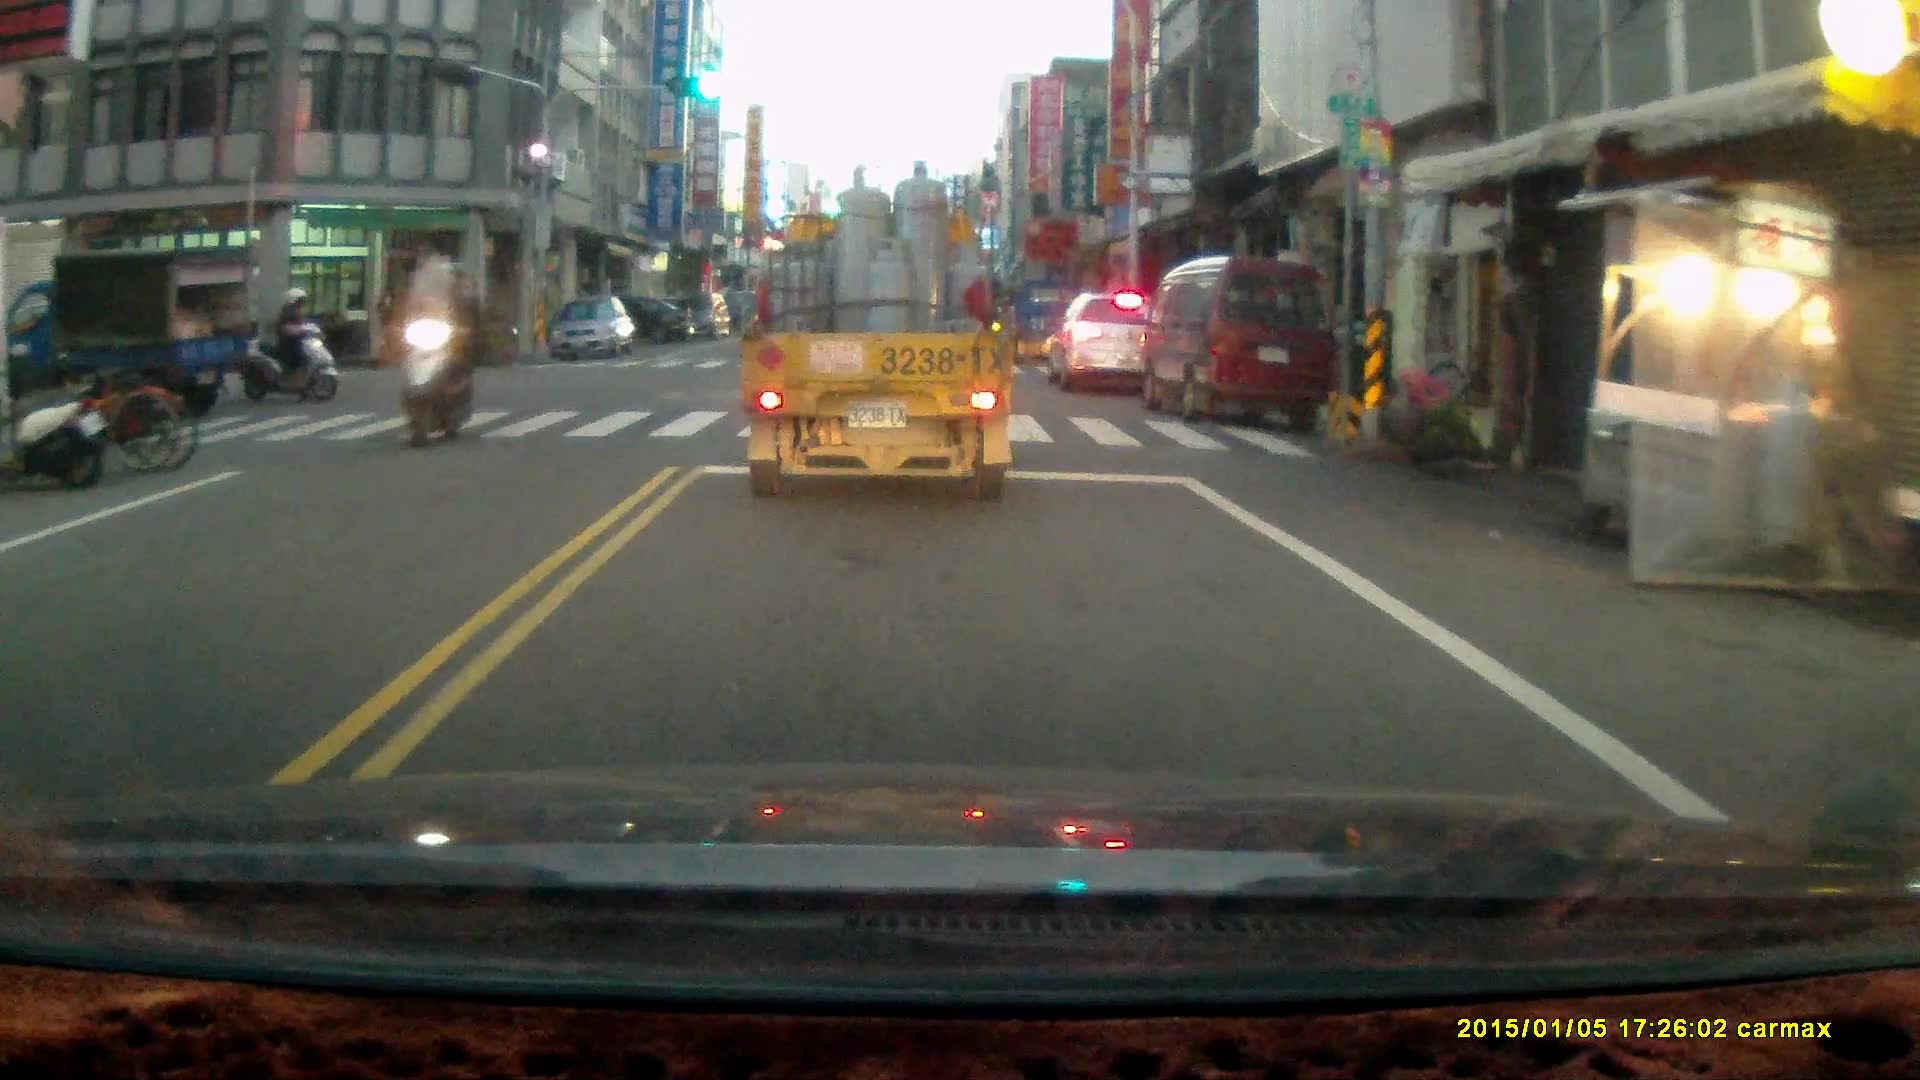pedestrian: (372, 283, 405, 362)
rider: (394, 255, 484, 443), (239, 284, 339, 403)
vehicle: (743, 168, 1017, 507), (11, 247, 242, 422), (1138, 258, 1339, 427), (1044, 290, 1171, 398), (572, 299, 694, 357), (548, 295, 638, 359), (648, 290, 728, 339)
